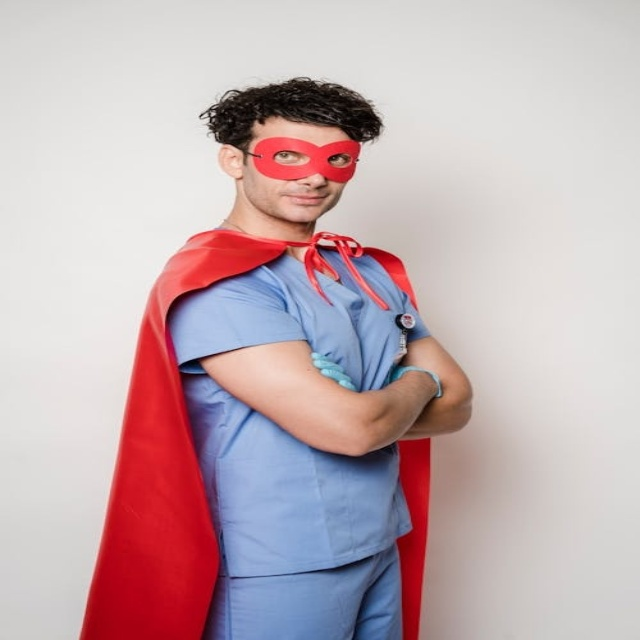Guantes: (311, 352, 355, 390)
Sin_mascara: (278, 189, 335, 218)
